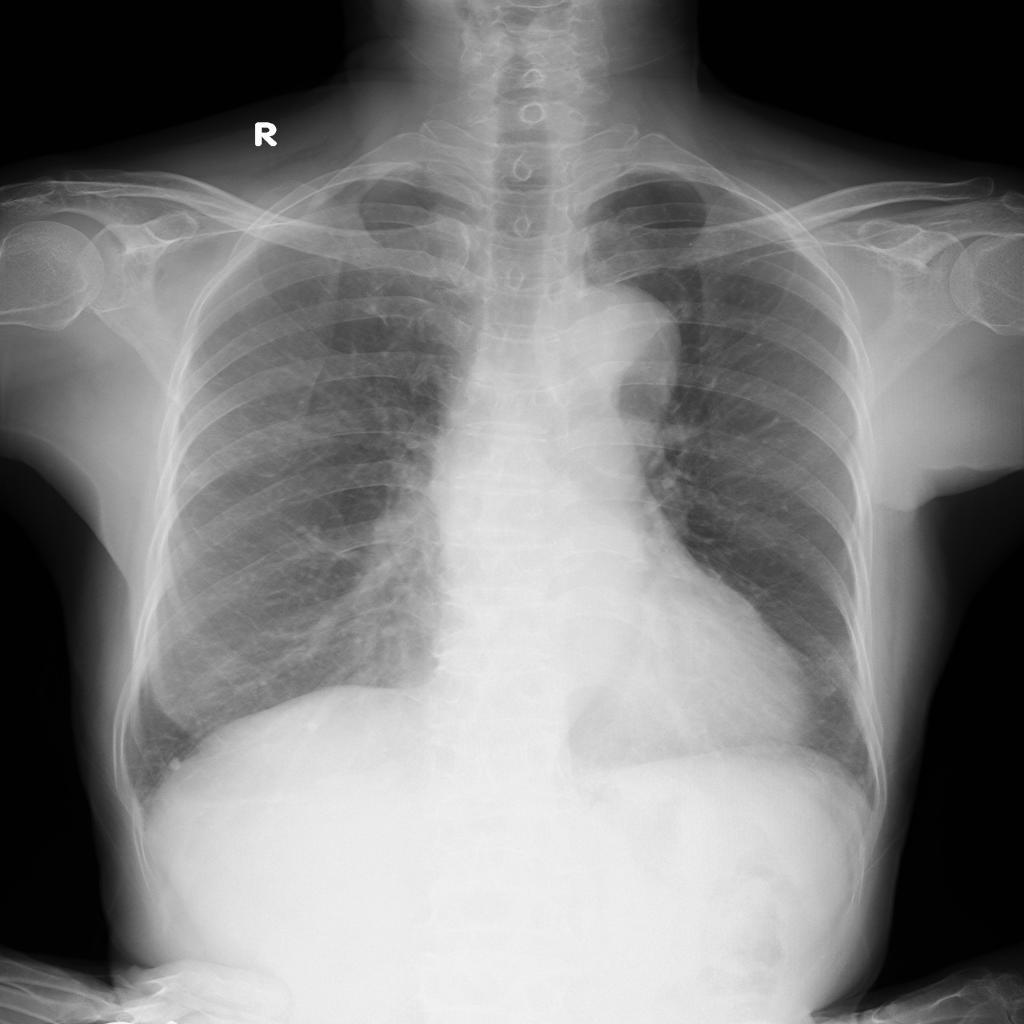Nodule: (168, 759, 182, 773)
